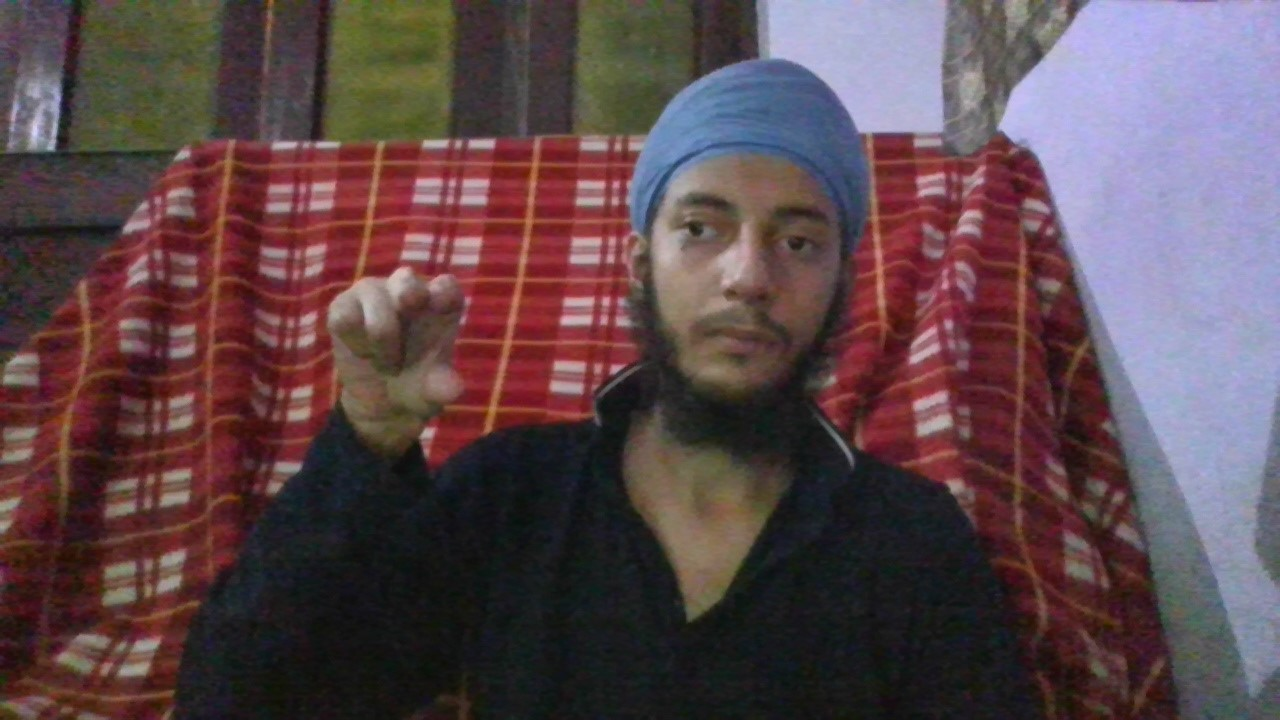No: (327, 264, 467, 419)
